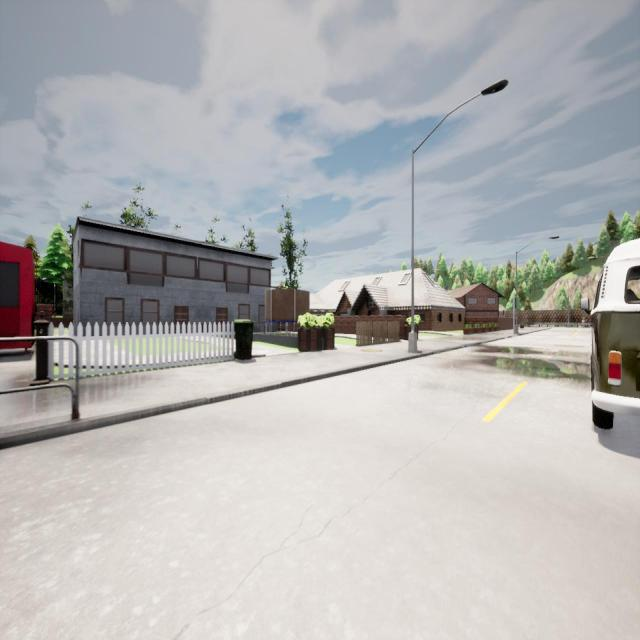Vehicle: (580, 238, 640, 428)
traffic_light: (514, 298, 516, 308)
